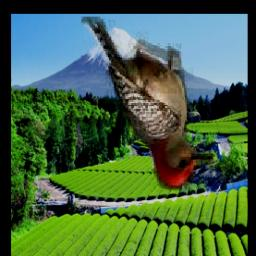Woodpecker: (82, 17, 216, 191)
